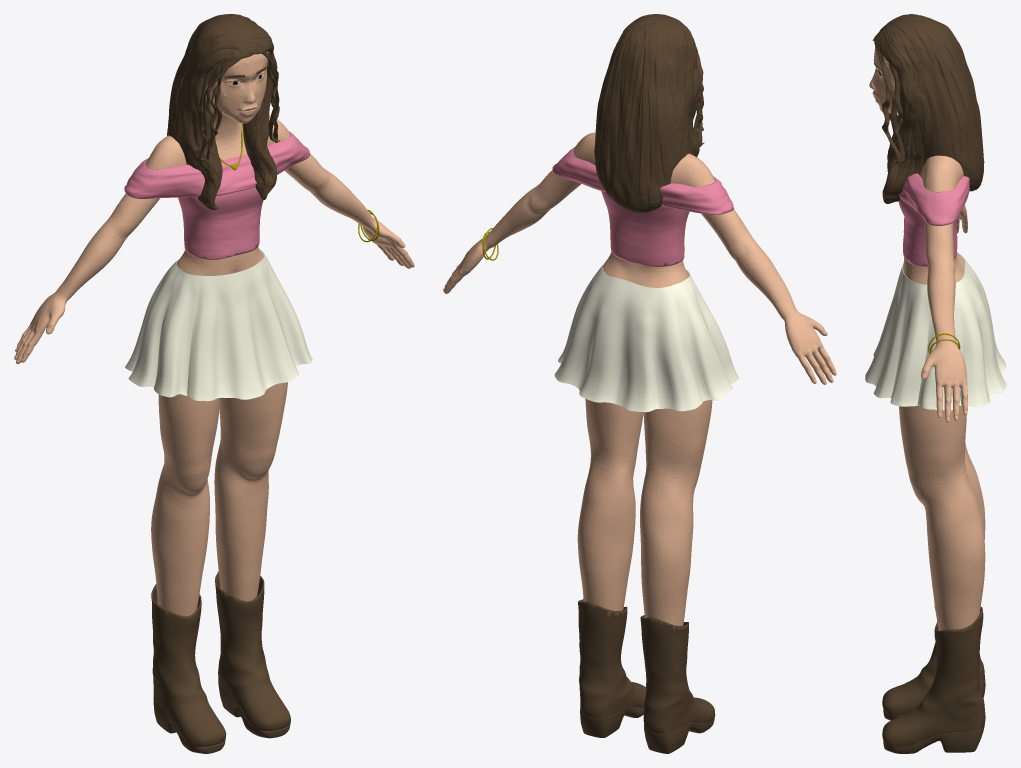
The model's file is postac.glb.
3 renders of one model, left to right at view 1: azimuth 30°, elevation 25°; view 2: azimuth 150°, elevation 25°; view 3: azimuth 270°, elevation 25°, orthographic.
Visible parts, largest first — view 1: body, Circle, Cube.007, Mesh, Cube.001, Cube.002, Cube.012; view 2: body, Circle, Mesh, Cube.007, Cube.001, Cube.002; view 3: body, Mesh, Circle, Cube.007, Cube.002, Cube.001, Cube.014, Cube.012, Cube.013.
Boxes of the visible parts, left/top/right/bottom form: body: left=14, top=51, right=414, bottom=616; Circle: left=125, top=250, right=312, bottom=401; Cube.007: left=151, top=571, right=290, bottom=753; Mesh: left=167, top=14, right=277, bottom=209; Cube.001: left=178, top=187, right=263, bottom=259; Cube.002: left=124, top=131, right=309, bottom=198; Cube.012: left=199, top=49, right=279, bottom=160; body: left=443, top=132, right=836, bottom=625; Circle: left=554, top=263, right=738, bottom=412; Mesh: left=594, top=14, right=700, bottom=212; Cube.007: left=578, top=599, right=715, bottom=753; Cube.001: left=601, top=191, right=689, bottom=266; Cube.002: left=552, top=147, right=733, bottom=214; body: left=869, top=46, right=985, bottom=630; Mesh: left=874, top=14, right=984, bottom=203; Circle: left=865, top=253, right=1006, bottom=410; Cube.007: left=882, top=606, right=985, bottom=753; Cube.002: left=898, top=173, right=969, bottom=225; Cube.001: left=898, top=198, right=957, bottom=266; Cube.014: left=877, top=48, right=904, bottom=162; Cube.012: left=878, top=47, right=901, bottom=163; Cube.013: left=889, top=63, right=902, bottom=143.
Bounding box in the file's own units: 1.02 × 1.76 × 0.3178.
6 materials, 1 textured.
